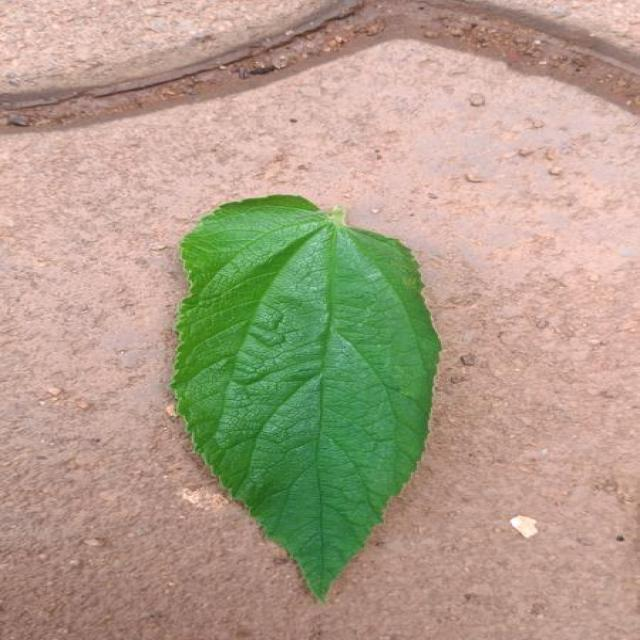gasagase: (172, 195, 440, 571)
